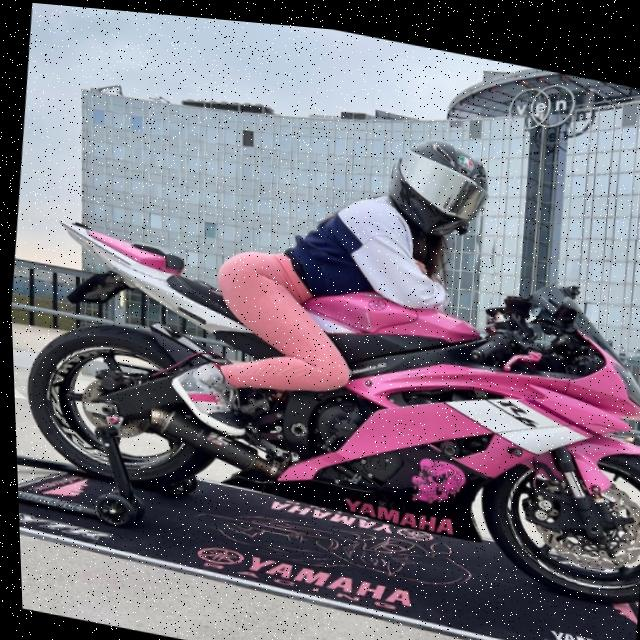helmet: (378, 119, 498, 244)
